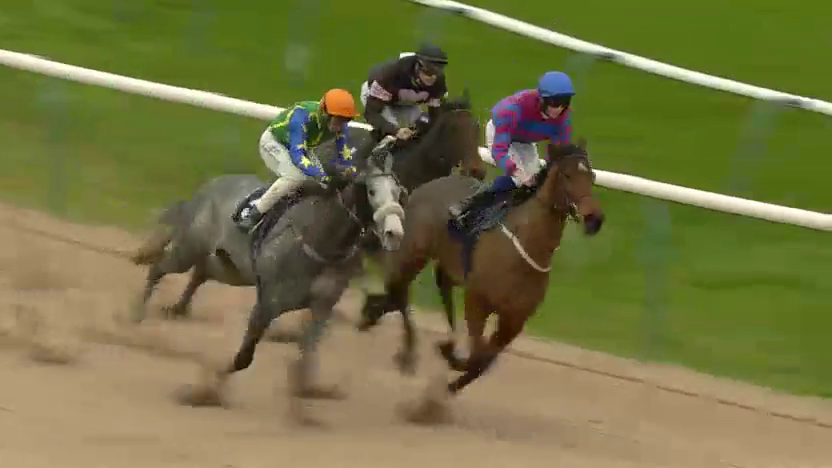jockey: (467, 70, 585, 240), (242, 87, 355, 231), (358, 44, 456, 169)
